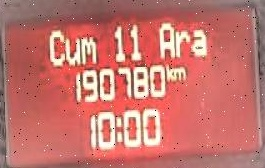0: (95, 108, 115, 150), (141, 106, 161, 145), (121, 107, 140, 147), (97, 65, 114, 100), (148, 63, 163, 98)
1: (128, 20, 143, 61), (112, 22, 126, 62), (71, 68, 81, 102), (87, 111, 94, 150)
7: (117, 65, 131, 98)
8: (132, 63, 147, 98)
9: (80, 67, 97, 102)
X: (48, 26, 63, 65), (157, 20, 173, 56), (190, 26, 206, 55), (80, 35, 96, 63), (64, 35, 80, 63), (173, 28, 188, 57), (174, 65, 185, 80), (115, 115, 121, 141), (165, 61, 172, 80)
